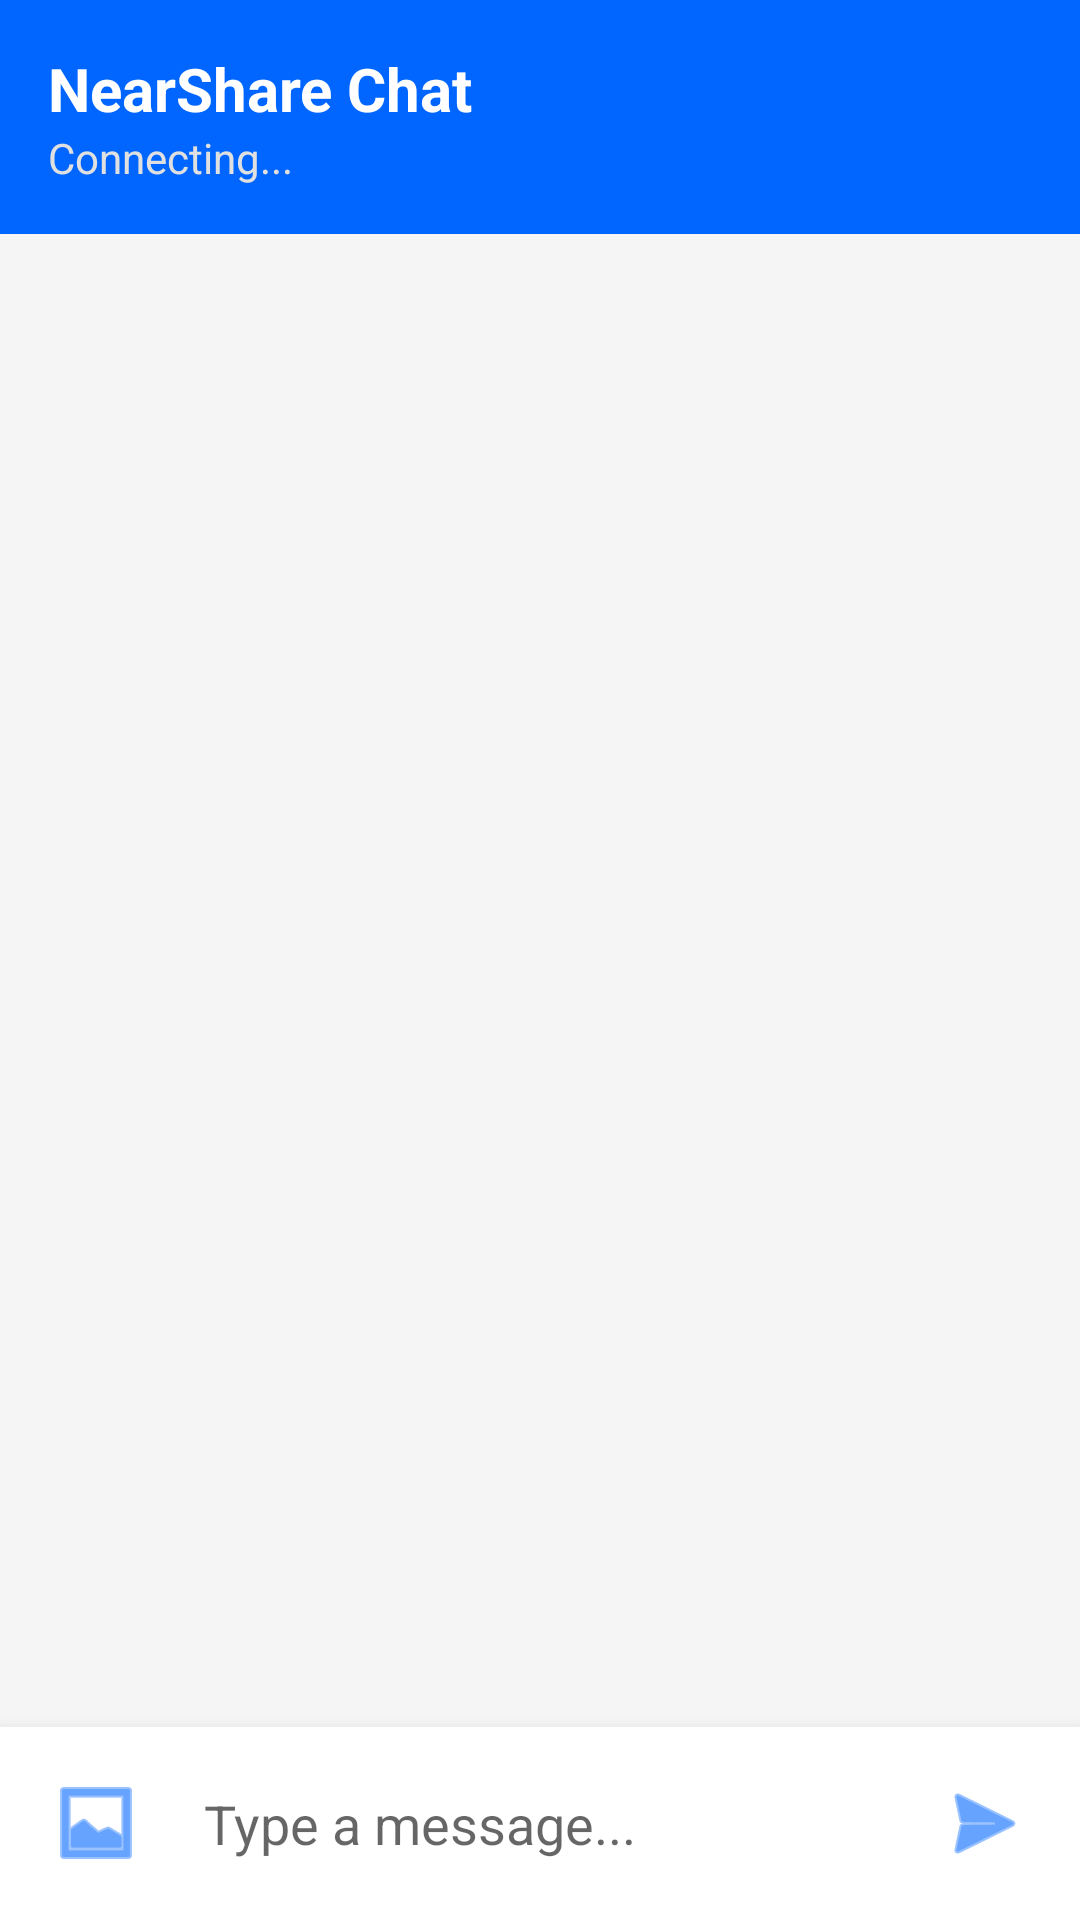

Icon click points for this 1080 x 1920 phone screenshot, format (x=x, y=y):
gallery: (x=96, y=1823)
send: (x=985, y=1823)
